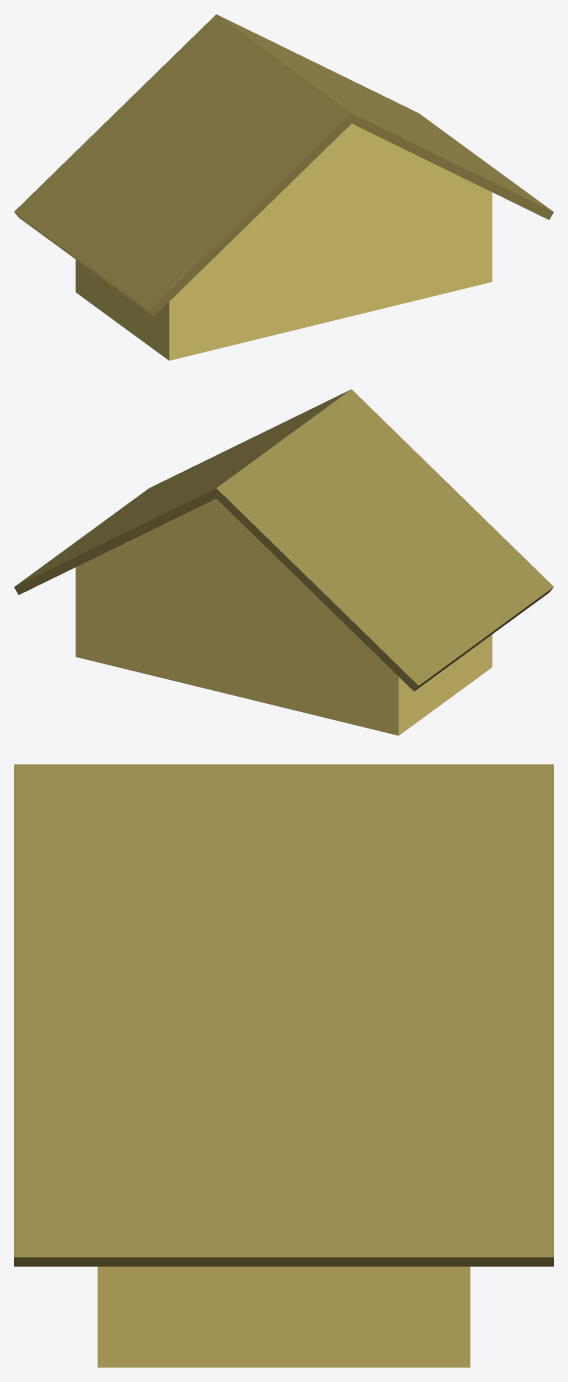
File: result.glb
3 renders of one model, top to bottom at view 1: azimuth 30°, elevation 25°; view 2: azimuth 150°, elevation 25°; view 3: azimuth 270°, elevation 25°, orthographic. The views are drawn at different scales.
Visible parts, largest first — view 1: e8e0e839-558b-4d03-a247-f676e7ea1306__undefined (×2), ddce233a-0cc3-40b5-9bea-f33255a75e4c__undefined; view 2: e8e0e839-558b-4d03-a247-f676e7ea1306__undefined (×2), ddce233a-0cc3-40b5-9bea-f33255a75e4c__undefined; view 3: e8e0e839-558b-4d03-a247-f676e7ea1306__undefined, ddce233a-0cc3-40b5-9bea-f33255a75e4c__undefined.
Part boxes in pixels (<box>): e8e0e839-558b-4d03-a247-f676e7ea1306__undefined (×2): <box>14,14,553,316</box>; ddce233a-0cc3-40b5-9bea-f33255a75e4c__undefined: <box>75,123,492,360</box>; e8e0e839-558b-4d03-a247-f676e7ea1306__undefined (×2): <box>14,389,553,691</box>; ddce233a-0cc3-40b5-9bea-f33255a75e4c__undefined: <box>75,498,492,735</box>; e8e0e839-558b-4d03-a247-f676e7ea1306__undefined: <box>14,764,553,1266</box>; ddce233a-0cc3-40b5-9bea-f33255a75e4c__undefined: <box>97,1266,470,1367</box>.
Bounding box in the file's own units: 1251 × 660 × 724.
